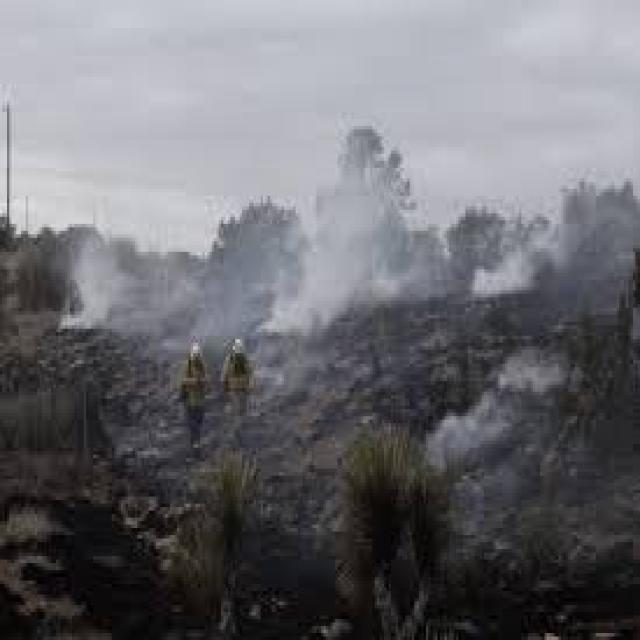Smoke: (52, 138, 583, 472)
